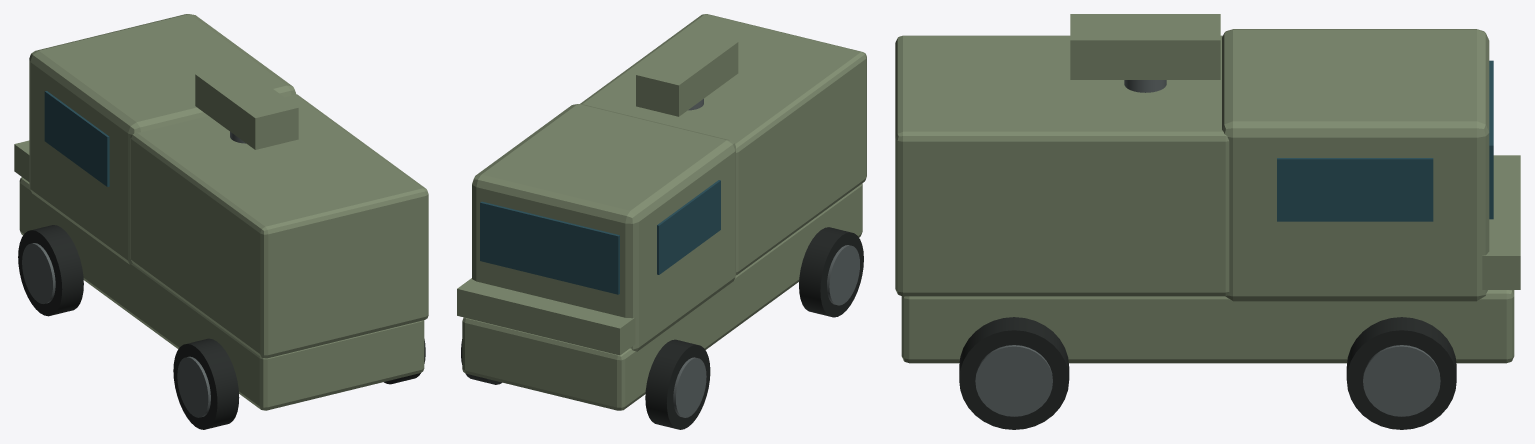
3 views of the same model, side by side, from view 1: azimuth 30°, elevation 25°; view 2: azimuth 150°, elevation 25°; view 3: azimuth 270°, elevation 25° (orthographic). The views are drawn at different scales.
Parts seen in each view (by area): view 1: Hull_MVP olive paint, RunningGear_MVP rubber, Hull_MVP optical glass, RunningGear_MVP exposed metal; view 2: Hull_MVP olive paint, Hull_MVP optical glass, RunningGear_MVP rubber, RunningGear_MVP exposed metal; view 3: Hull_MVP olive paint, RunningGear_MVP rubber, Hull_MVP optical glass, RunningGear_MVP exposed metal.
Part boxes in pixels (left/top/right/bottom): Hull_MVP olive paint: left=14, top=14, right=428, bottom=410; RunningGear_MVP rubber: left=18, top=225, right=425, bottom=429; Hull_MVP optical glass: left=44, top=91, right=109, bottom=186; RunningGear_MVP exposed metal: left=22, top=243, right=210, bottom=417; Hull_MVP olive paint: left=457, top=14, right=866, bottom=410; Hull_MVP optical glass: left=480, top=180, right=720, bottom=294; RunningGear_MVP rubber: left=461, top=227, right=863, bottom=429; RunningGear_MVP exposed metal: left=673, top=245, right=859, bottom=417; Hull_MVP olive paint: left=895, top=14, right=1520, bottom=363; RunningGear_MVP rubber: left=959, top=317, right=1456, bottom=429; Hull_MVP optical glass: left=1277, top=60, right=1493, bottom=221; RunningGear_MVP exposed metal: left=975, top=345, right=1440, bottom=416.
Bounding box in the file's own units: 2.46 × 2.99 × 5.
